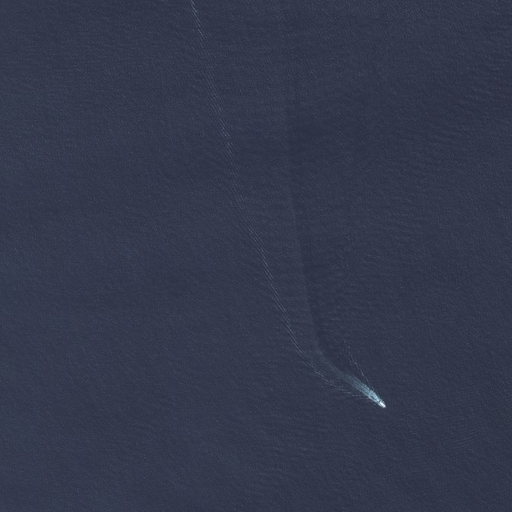ship: (377, 399, 386, 411)
